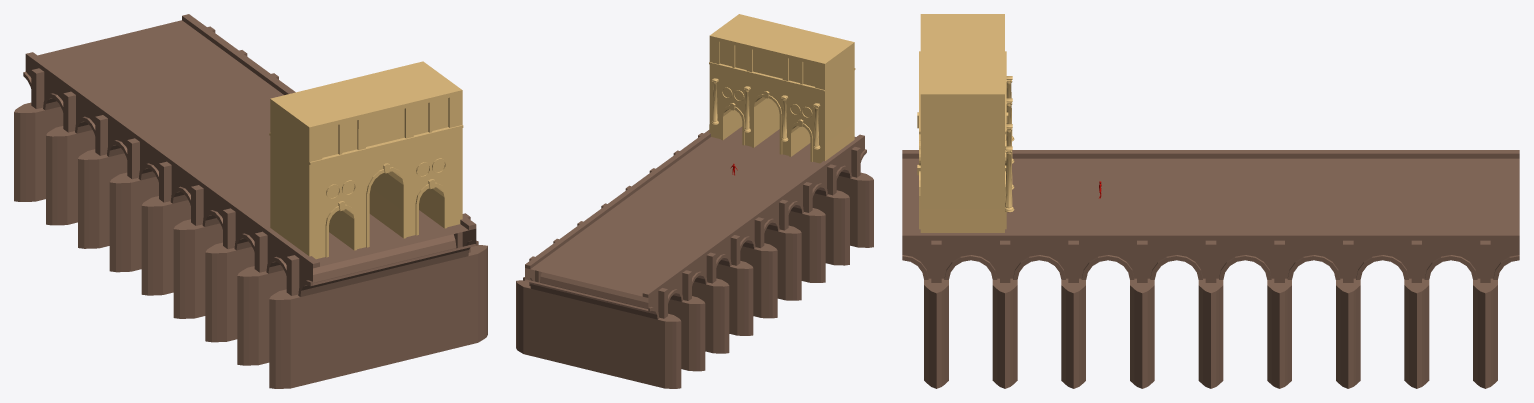
The model's file is PONTE_temp.fbx.
The picture shows the model from 3 angles, left to right: view 1: azimuth 30°, elevation 25°; view 2: azimuth 150°, elevation 25°; view 3: azimuth 270°, elevation 25°; orthographic projection. The views are drawn at different scales.
Visible parts, largest first — view 1: Ponte avancada, aRCO DO TRIUNFO; view 2: Ponte avancada, aRCO DO TRIUNFO; view 3: Ponte avancada, aRCO DO TRIUNFO.
Boxes of the visible parts, x1,y1,x2,y2 form: Ponte avancada: (14, 14, 487, 388); aRCO DO TRIUNFO: (269, 61, 463, 259); Ponte avancada: (516, 126, 873, 388); aRCO DO TRIUNFO: (709, 14, 855, 163); Ponte avancada: (902, 150, 1519, 388); aRCO DO TRIUNFO: (917, 14, 1008, 232).
Bounding box in the file's own units: 5144 × 5801 × 11700.
